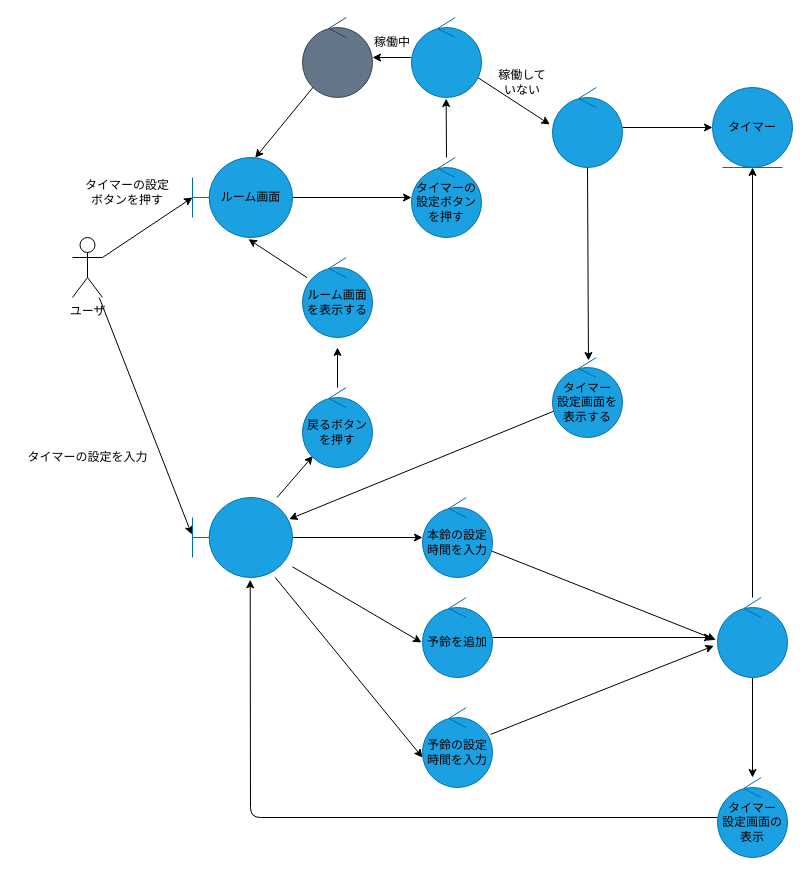
The diagram is 810 pixels wide and 875 high, and some of its shapes have lost their labels. Here are the shapes that lost their labels. From the top down, the box of each, then its label:
(302, 16, 372, 98): 稼働中エラーでルーム画面を表示
(410, 16, 482, 98): タイマーの状態を確認
(552, 86, 622, 168): 現在の設定を取得
(192, 496, 292, 578): タイマー設定画面
(716, 596, 788, 678): 設定を更新
